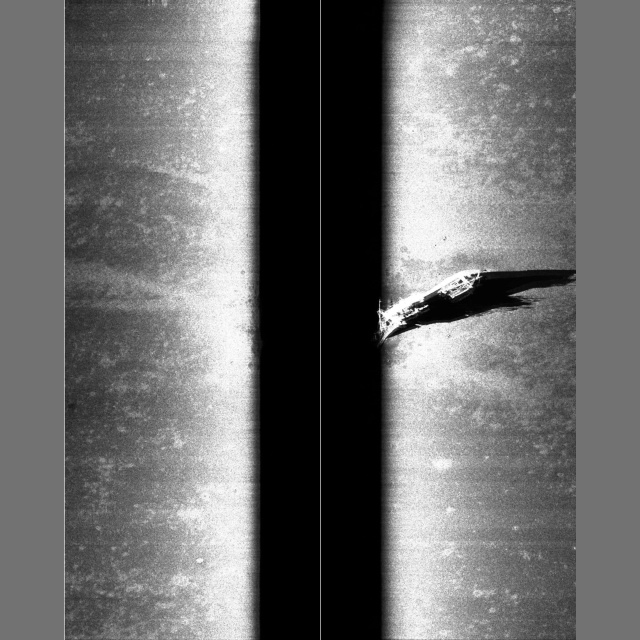Shipwreck: (372, 269, 483, 348)
